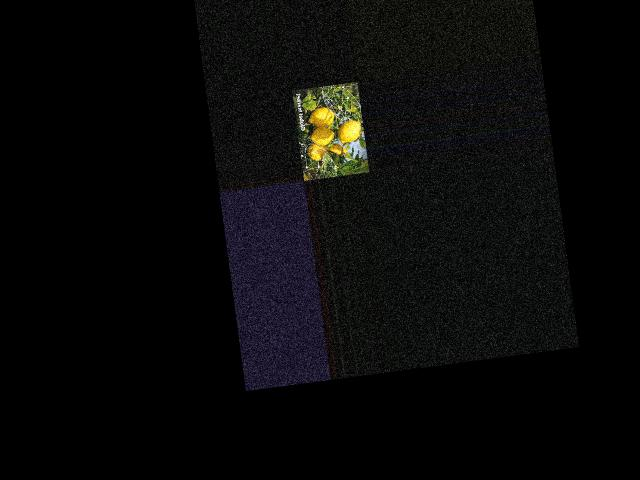lemon: (335, 118, 364, 144)
